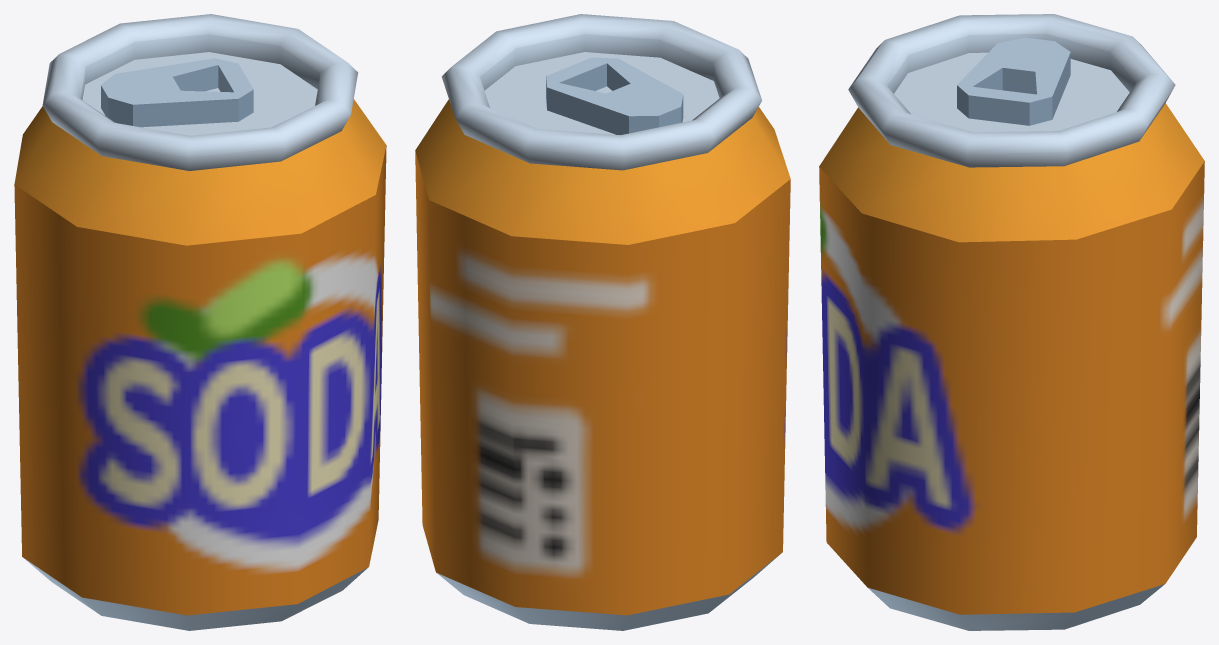
File: Soda_02.fbx
The picture shows the model from 3 angles, left to right: view 1: azimuth 30°, elevation 25°; view 2: azimuth 150°, elevation 25°; view 3: azimuth 270°, elevation 25°; orthographic projection.
Parts seen in each view (by area): view 1: Soda_02; view 2: Soda_02; view 3: Soda_02.
Part boxes in pixels (x1,y1,x2,y2): Soda_02: (14, 14, 386, 630); Soda_02: (415, 14, 790, 630); Soda_02: (819, 14, 1204, 630).
Bounding box in the file's own units: 1.88 × 2.75 × 1.95.
